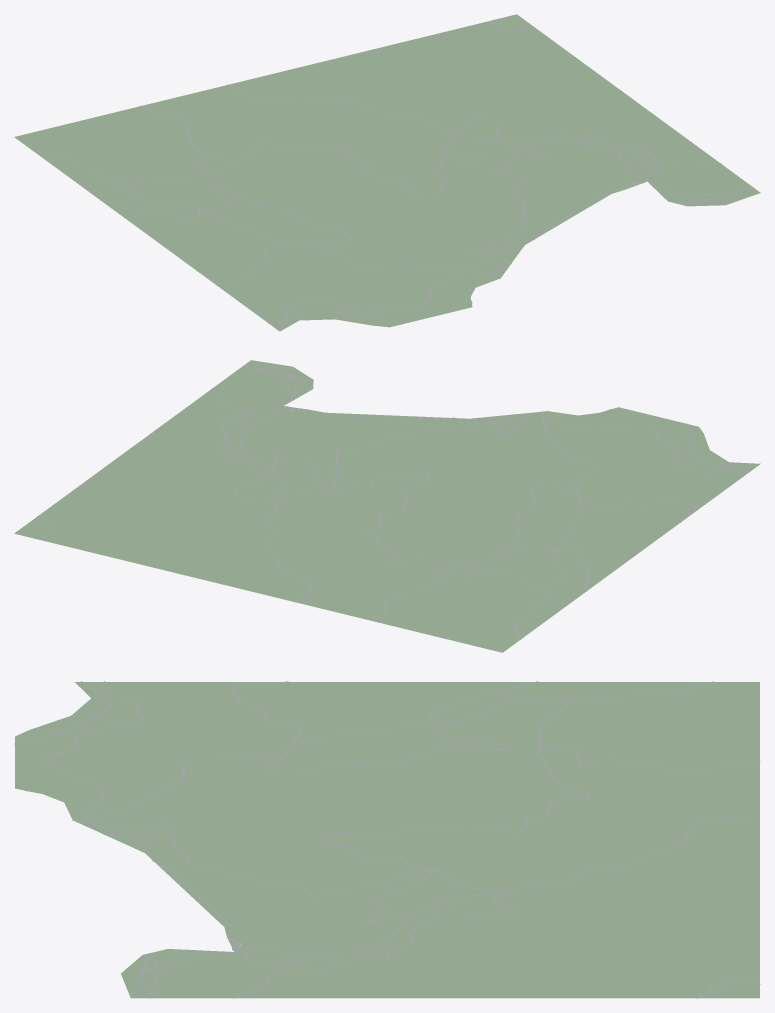
File: -8_13-known-fine.glb
The picture shows the model from 3 angles, top to bottom: view 1: azimuth 30°, elevation 25°; view 2: azimuth 150°, elevation 25°; view 3: azimuth 270°, elevation 25°; orthographic projection. The views are drawn at different scales.
Size of the model in its own units: 1003 by 0.15 by 997.
